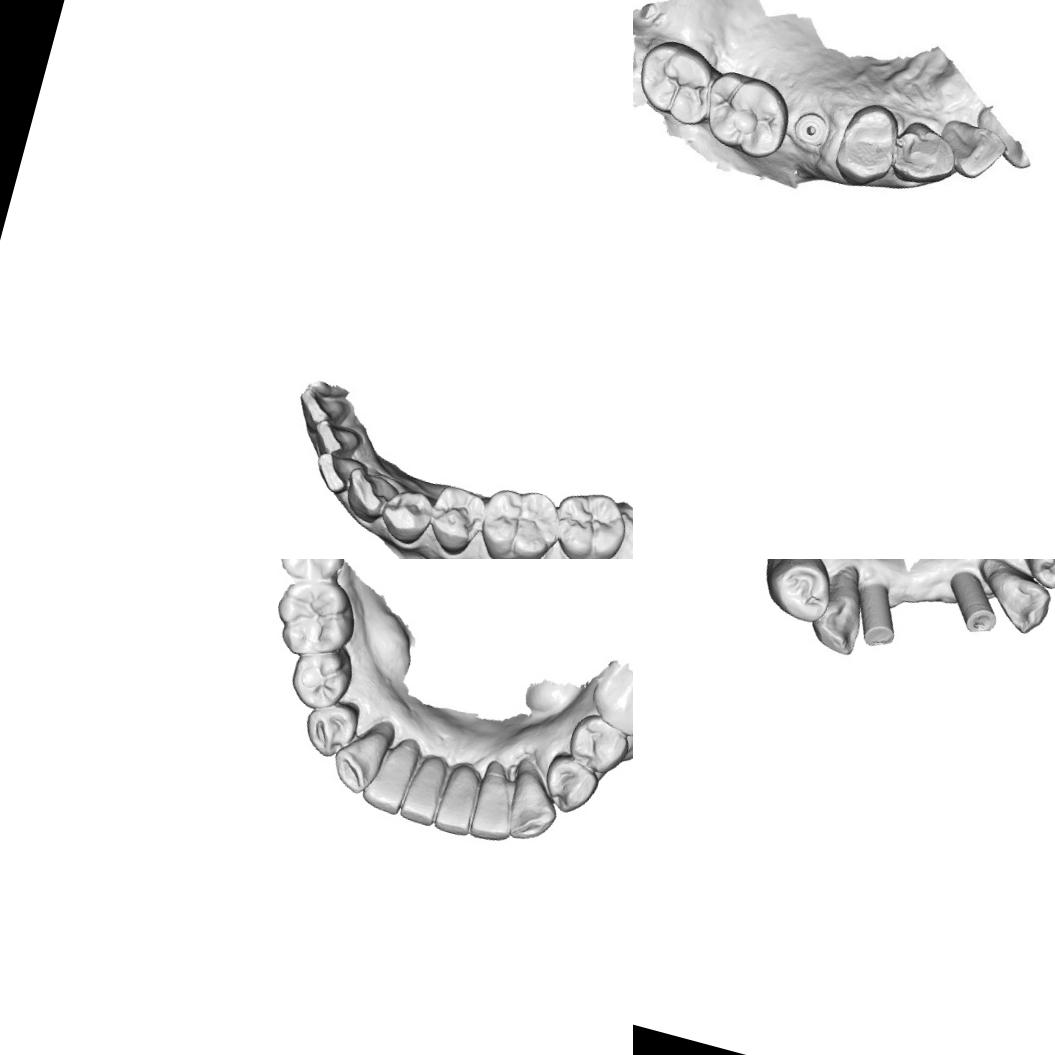canine: (975, 559, 1055, 639), (888, 117, 962, 192), (328, 718, 394, 797), (804, 582, 870, 659), (334, 461, 407, 530), (500, 770, 562, 848)
implant: (933, 565, 1006, 638), (846, 577, 908, 653), (786, 106, 833, 156)
incisor: (933, 116, 1010, 184), (356, 744, 419, 818), (464, 776, 522, 844), (395, 758, 448, 828), (429, 771, 482, 840), (288, 382, 353, 438), (306, 447, 371, 501), (306, 412, 366, 462)
molar: (265, 568, 362, 668), (698, 66, 796, 158), (633, 32, 722, 130), (468, 477, 568, 559), (544, 482, 633, 559)
premolar: (827, 96, 906, 190), (420, 481, 493, 559), (756, 559, 837, 629), (283, 641, 357, 715), (561, 708, 633, 778), (534, 748, 602, 820), (296, 692, 364, 764), (371, 482, 437, 550), (1011, 559, 1055, 592)
